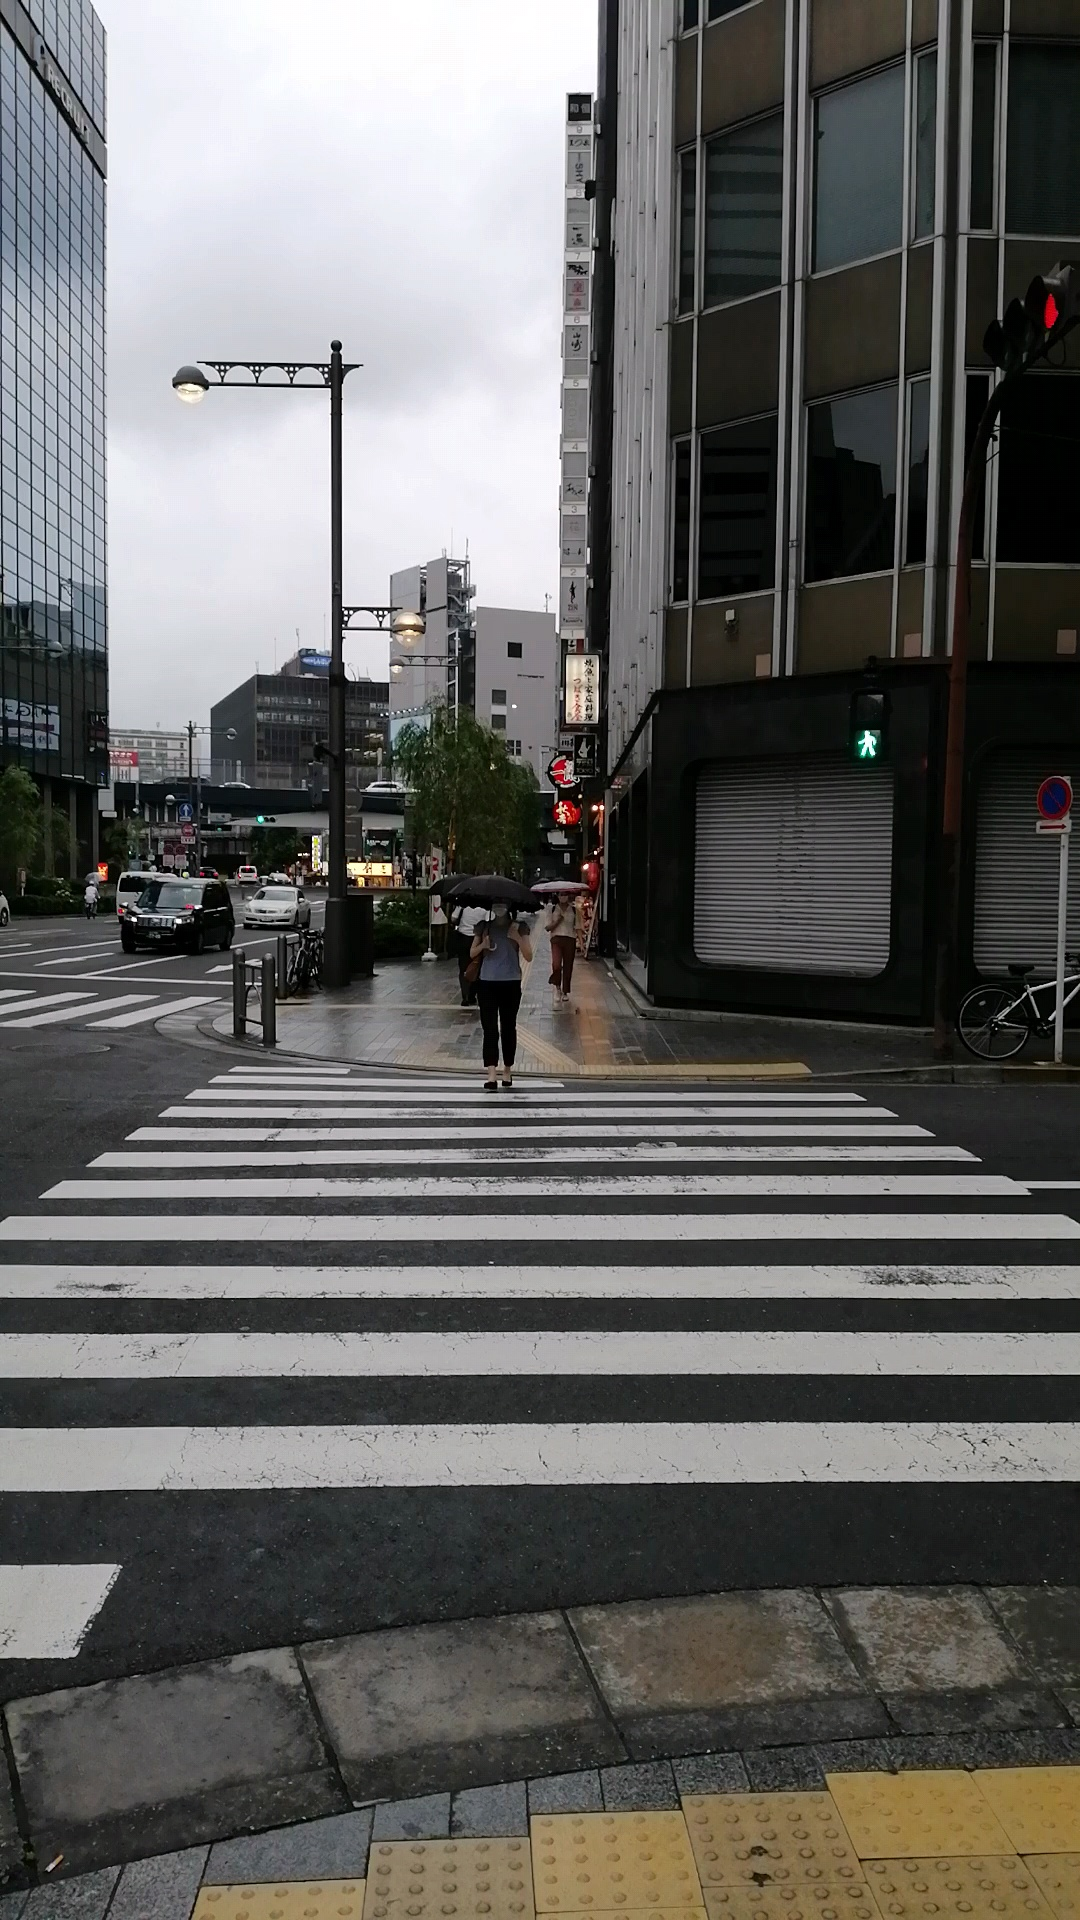green: (851, 690, 885, 764)
